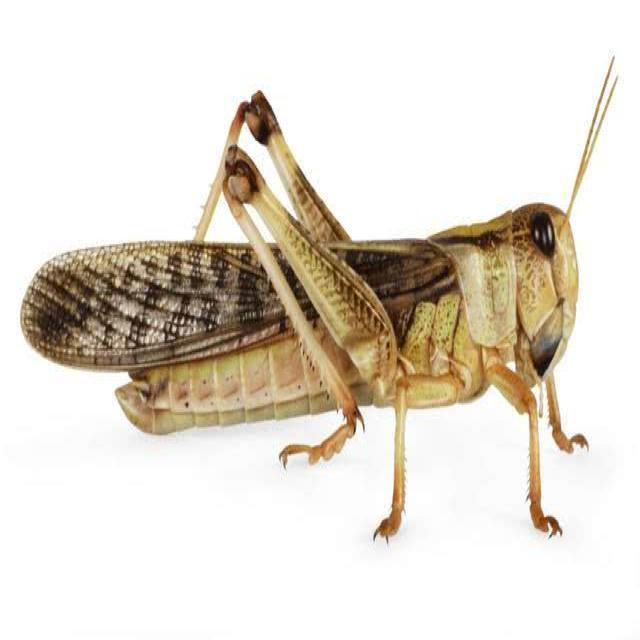ZhaMeng: (12, 82, 606, 544)
